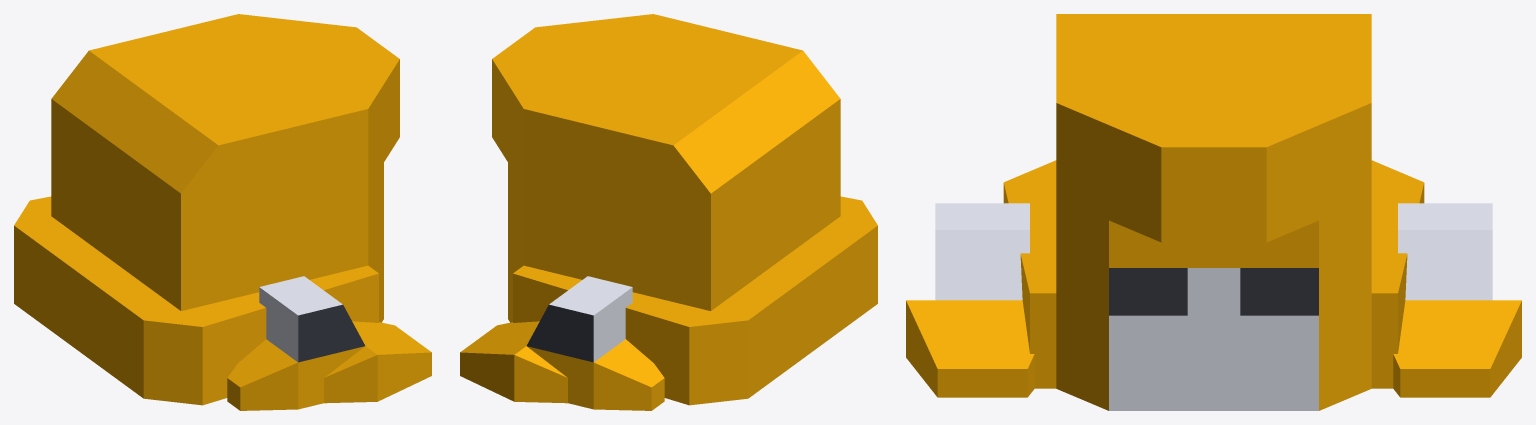
Rendered from character.glb.
3 renders of one model, left to right at view 1: azimuth 30°, elevation 25°; view 2: azimuth 150°, elevation 25°; view 3: azimuth 270°, elevation 25°, orthographic. The views are drawn at different scales.
Parts seen in each view (by area): view 1: head_classic, foot_thin; view 2: head_classic, foot_thin; view 3: head_classic, foot_thin (×2).
Boxes of the visible parts, x1,y1,x2,y2 form: head_classic: (14,14,399,405); foot_thin: (227,276,431,410); head_classic: (492,14,877,405); foot_thin: (460,276,664,410); head_classic: (1003,14,1424,410); foot_thin (×2): (906,203,1521,397).
Bounding box in the file's own units: 0.4 × 0.3 × 0.5856.
